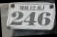character: (9, 9, 23, 25), (37, 11, 51, 25), (23, 11, 36, 25)
